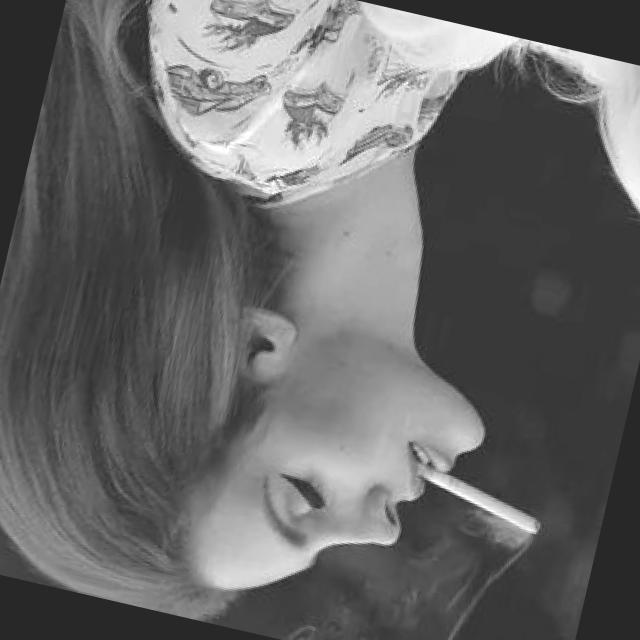cigarette: (399, 446, 556, 536)
